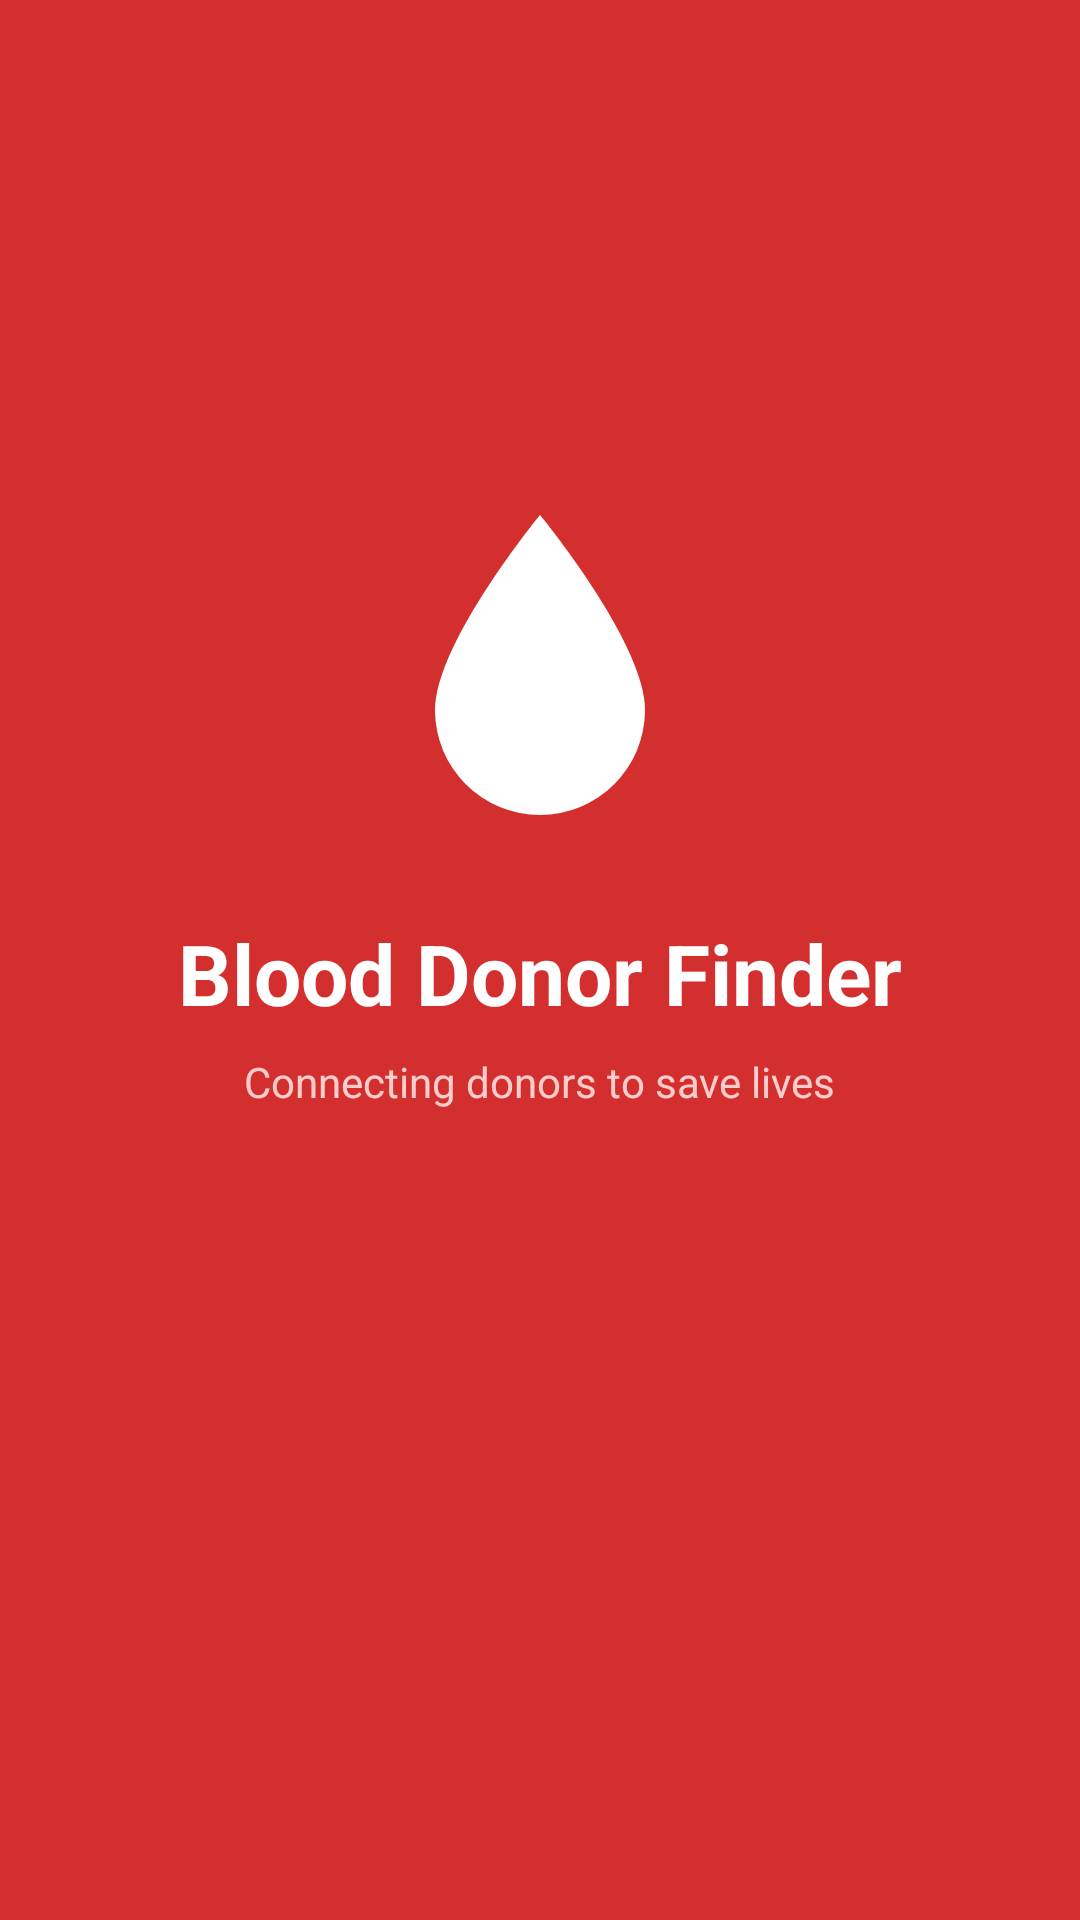

Icon click points for this 1080×1920 phone screenshot, format point (x, y):
blooddrop: point (540, 665)
